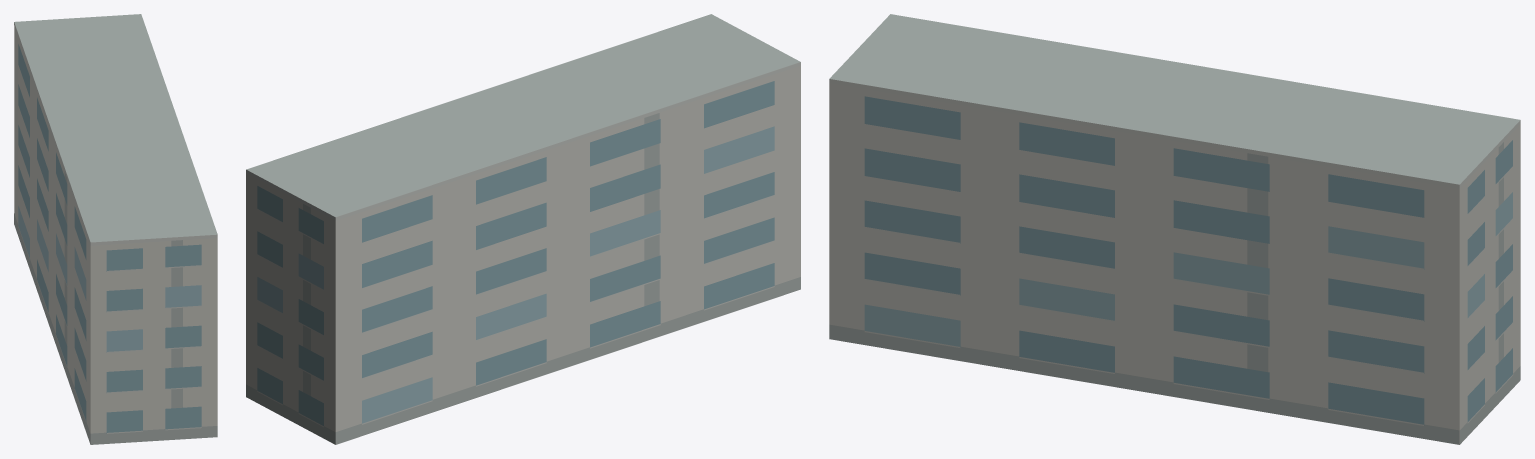
File: residential-e8d7eaed-a811-4f45-b8ea-e26b73f91d0f.glb
The picture shows the model from 3 angles, left to right: view 1: azimuth 30°, elevation 25°; view 2: azimuth 150°, elevation 25°; view 3: azimuth 270°, elevation 25°; orthographic projection. The views are drawn at different scales.
Visible parts, largest first — view 1: residential-e8d7eaed-a811-4f45-b8ea-e26b73f91d0f.tmp; view 2: residential-e8d7eaed-a811-4f45-b8ea-e26b73f91d0f.tmp; view 3: residential-e8d7eaed-a811-4f45-b8ea-e26b73f91d0f.tmp.
Boxes of the visible parts, x1,y1,x2,y2 form: residential-e8d7eaed-a811-4f45-b8ea-e26b73f91d0f.tmp: [14, 14, 217, 444]; residential-e8d7eaed-a811-4f45-b8ea-e26b73f91d0f.tmp: [246, 14, 800, 444]; residential-e8d7eaed-a811-4f45-b8ea-e26b73f91d0f.tmp: [829, 14, 1520, 444].
Bounding box in the file's own units: 21.46 × 15.25 × 36.74.
